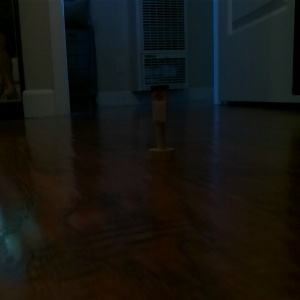traffic light red: (146, 83, 176, 163)
